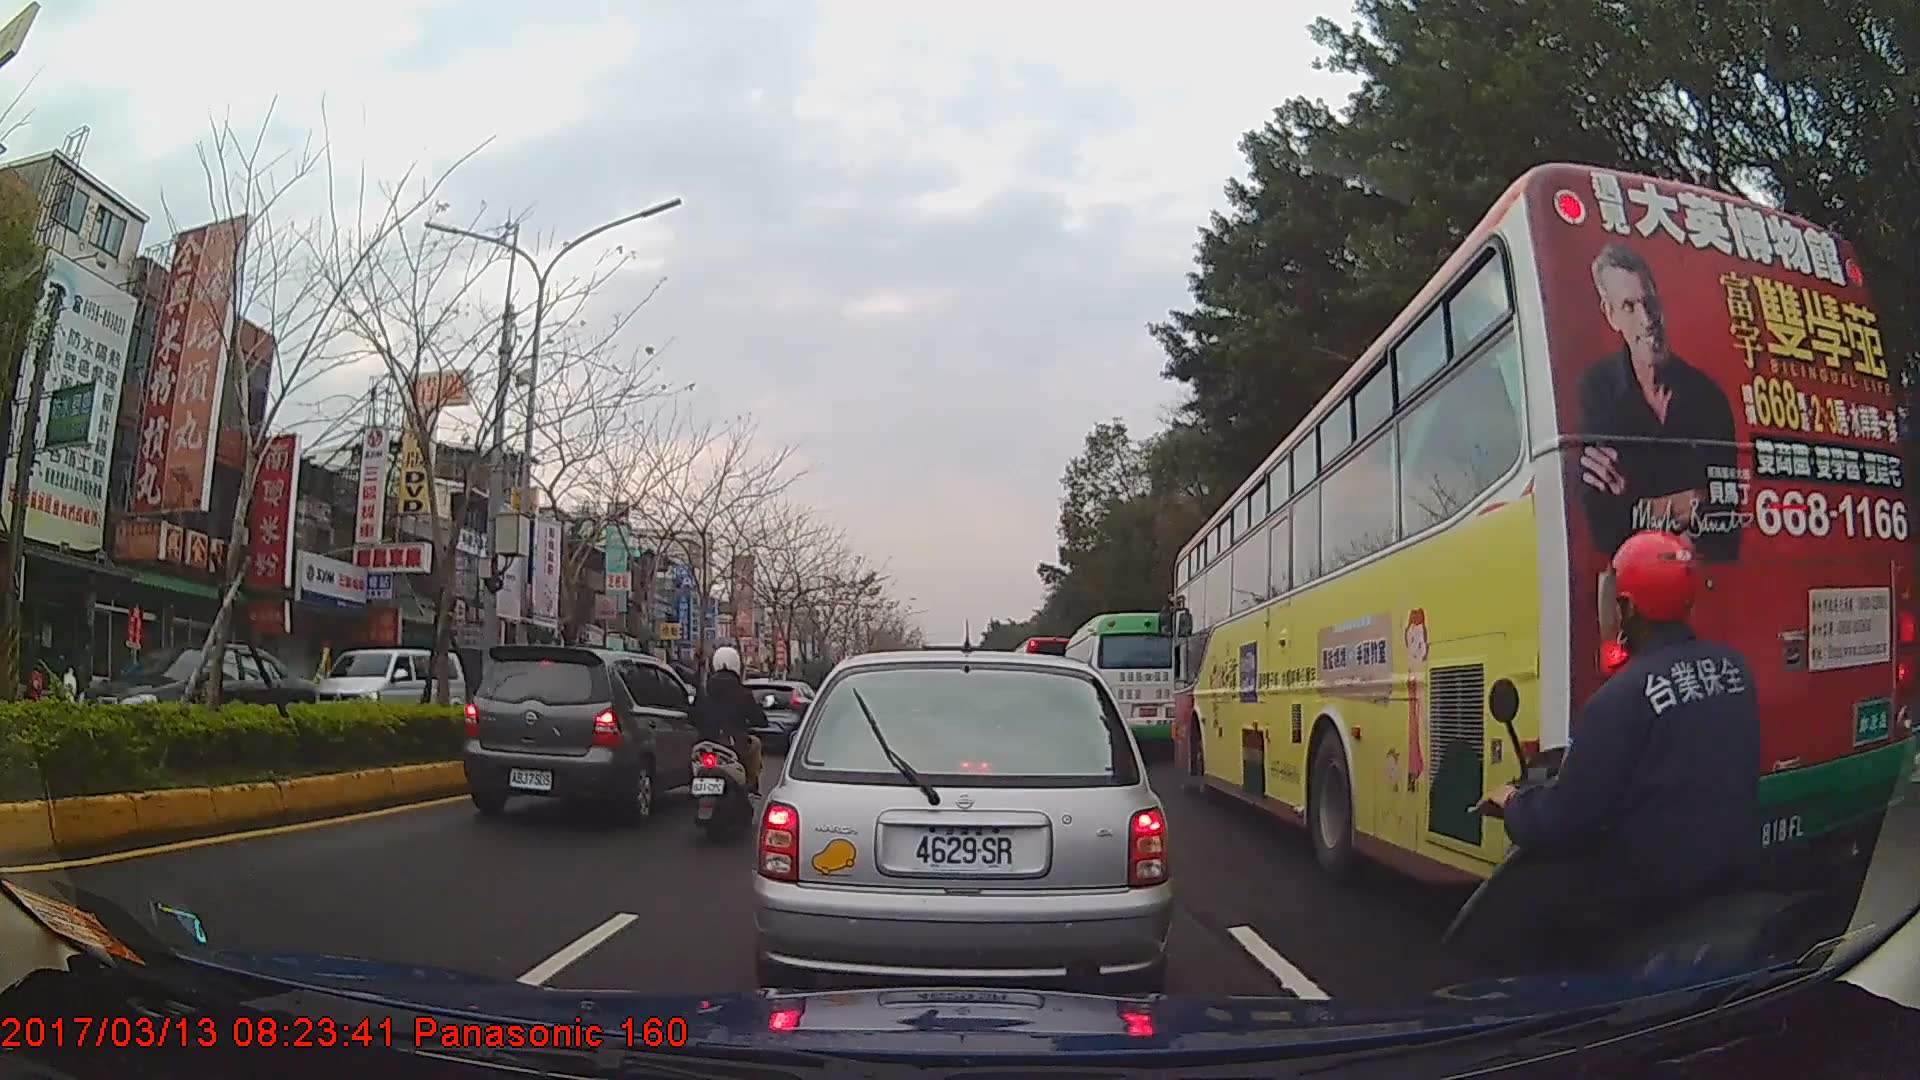rider: (1459, 521, 1810, 1067), (686, 644, 769, 836)
vehicle: (1171, 161, 1910, 896), (753, 651, 1173, 1005), (463, 644, 705, 822), (74, 639, 317, 755), (1062, 610, 1187, 757), (314, 648, 464, 739), (719, 676, 821, 754)
